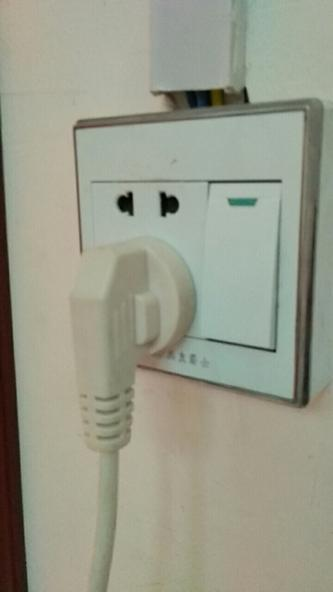switch: (197, 171, 289, 361)
